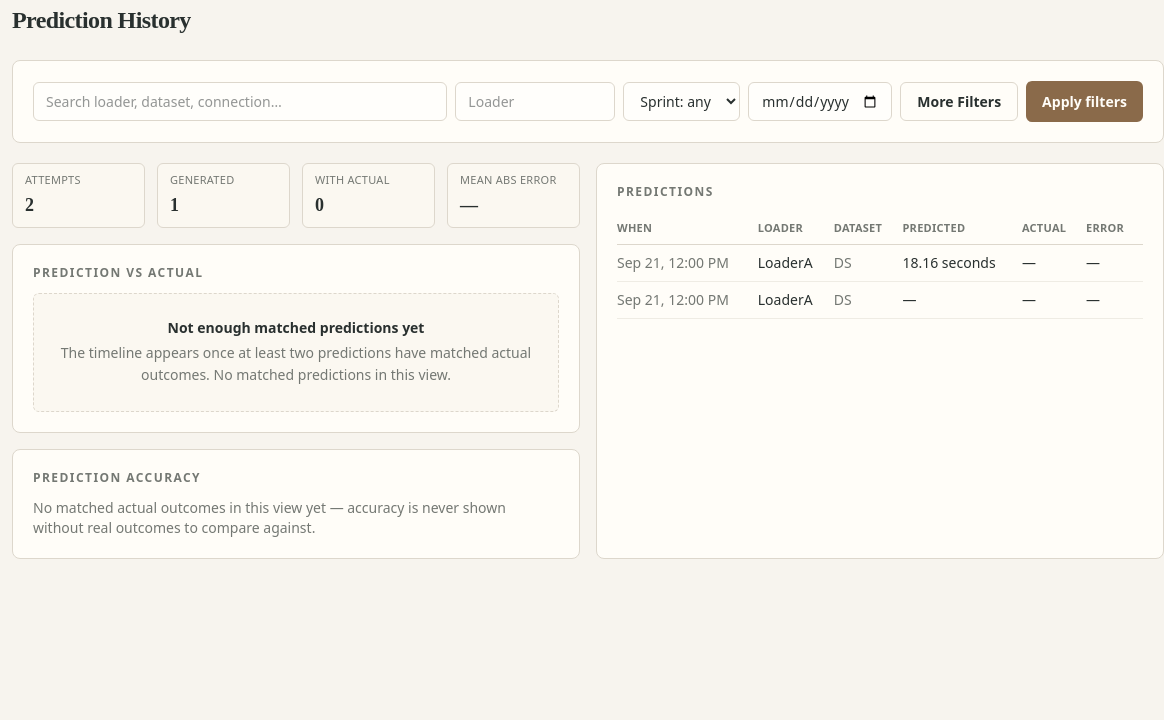
it: Prediction History › filters by status via Apply
The width and height of the screenshot is (1164, 720).
Expected: the element with test id "history-table" is shown, [596, 163, 1163, 559]
Step 1. Click the button with test id "more-filters-toggle" → (959,102), box [900, 82, 1018, 121]
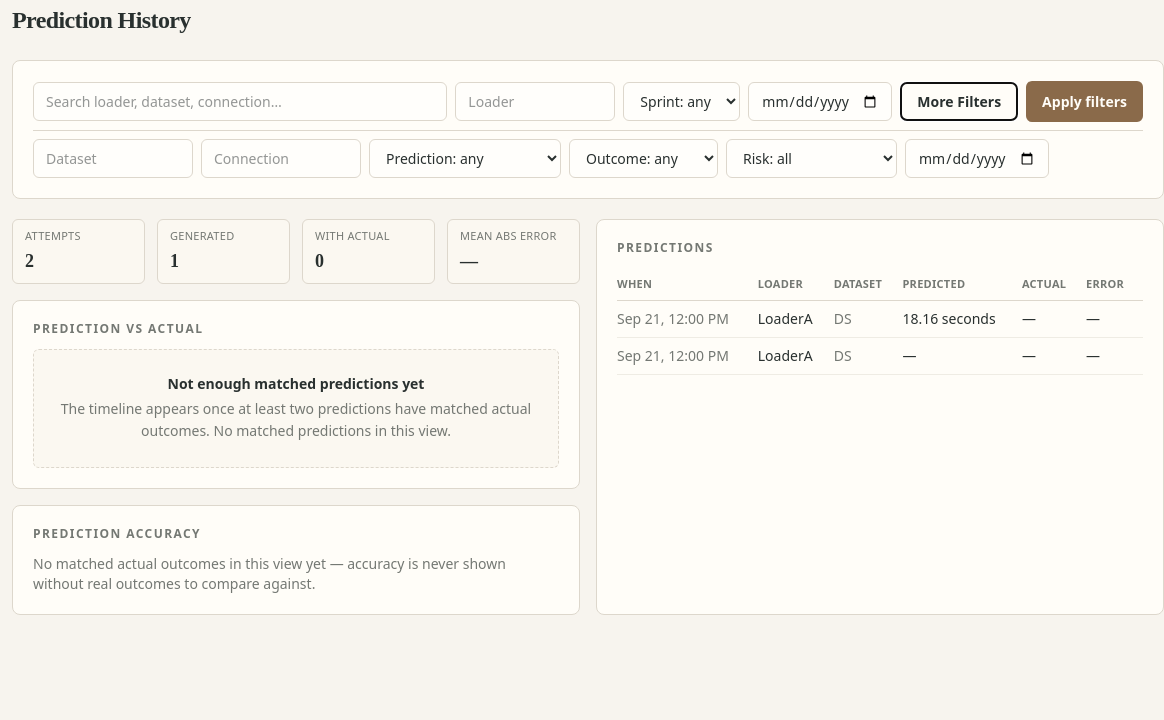
Step 2. Select "Insufficient history" in the dropdown named "Prediction status filter" → (465,158), box [369, 139, 561, 178]
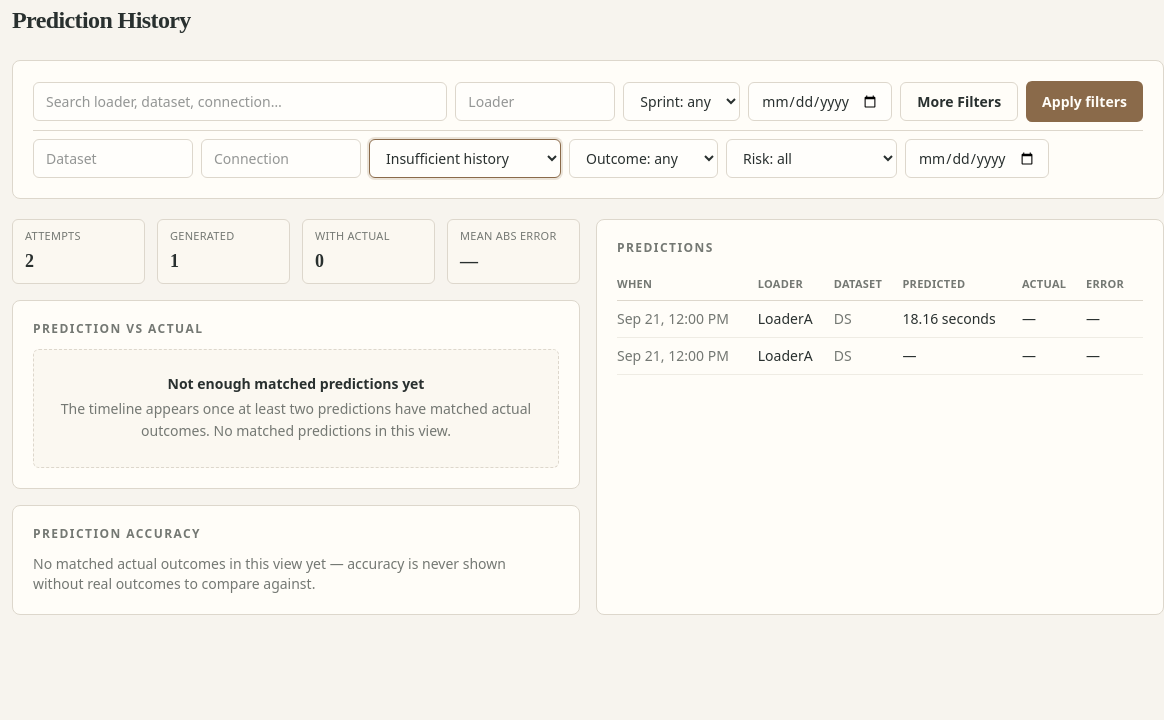
Step 3. Click the button "Apply filters" → (1085,102), box [1026, 81, 1143, 122]
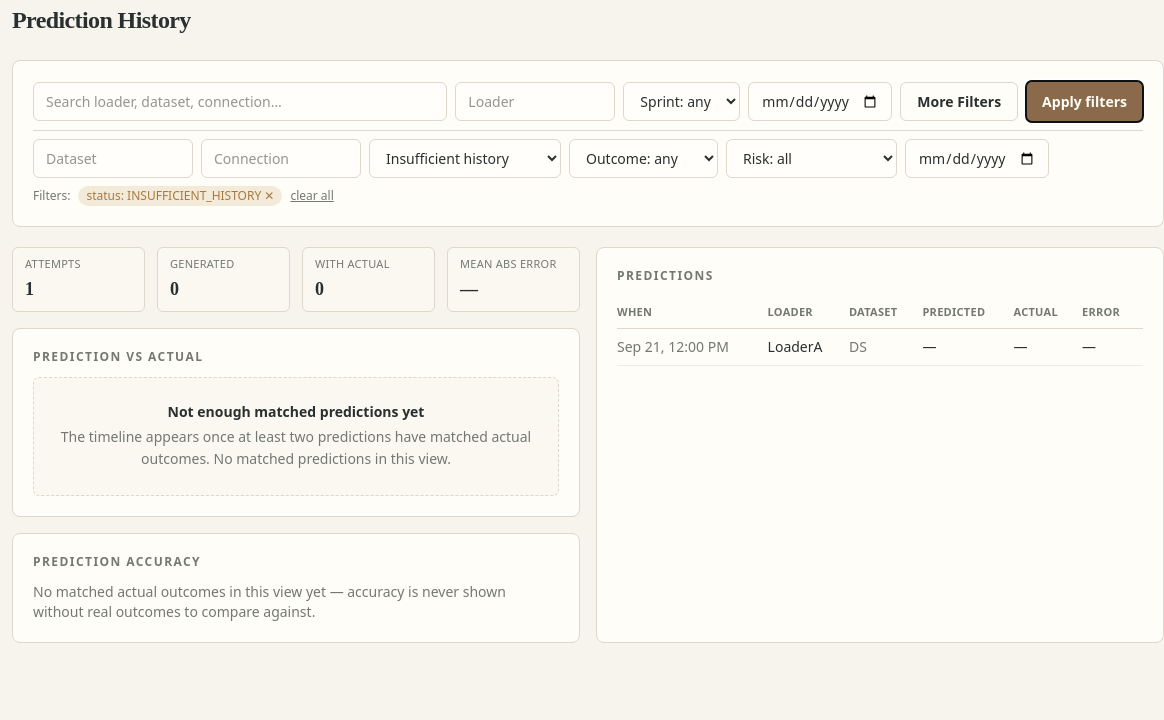
Expected: the element with test id "history-table" shows "Predictions", [617, 267, 714, 284]
Expected: the element with test id "history-table" no longer shows "18.16", [596, 247, 1163, 643]
